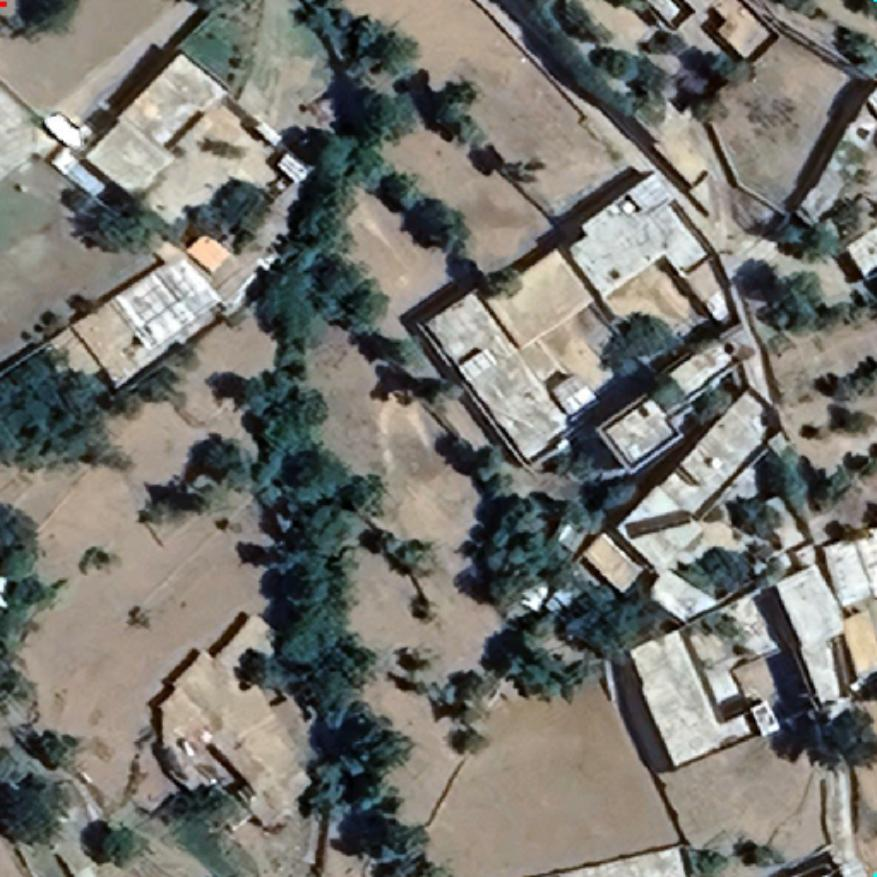Solarpanel: (620, 505, 706, 542)
